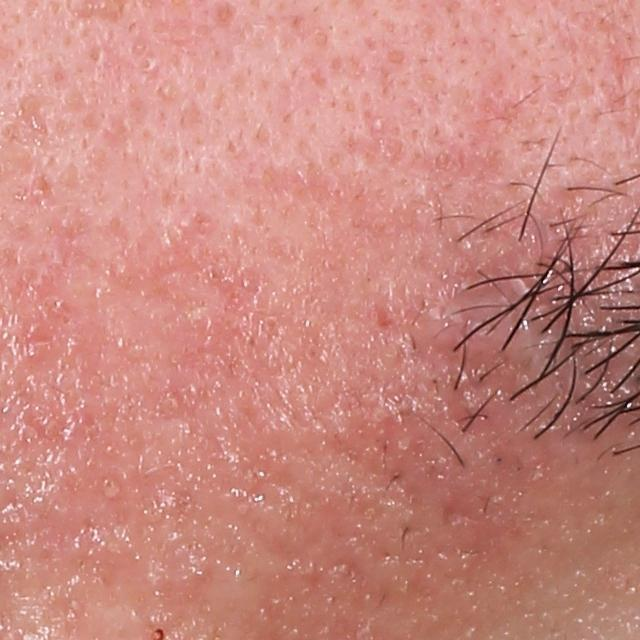comedo: (372, 117, 388, 131)
